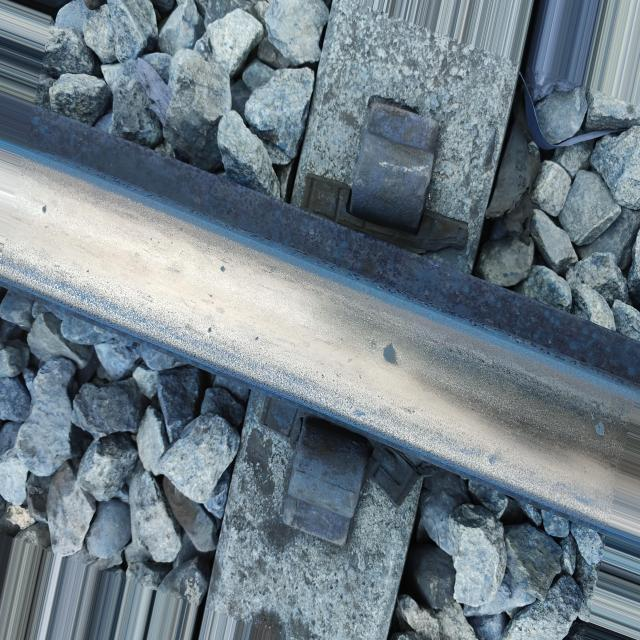squats_high: (383, 346, 401, 367), (594, 420, 605, 439), (39, 202, 49, 214), (218, 260, 226, 272)
